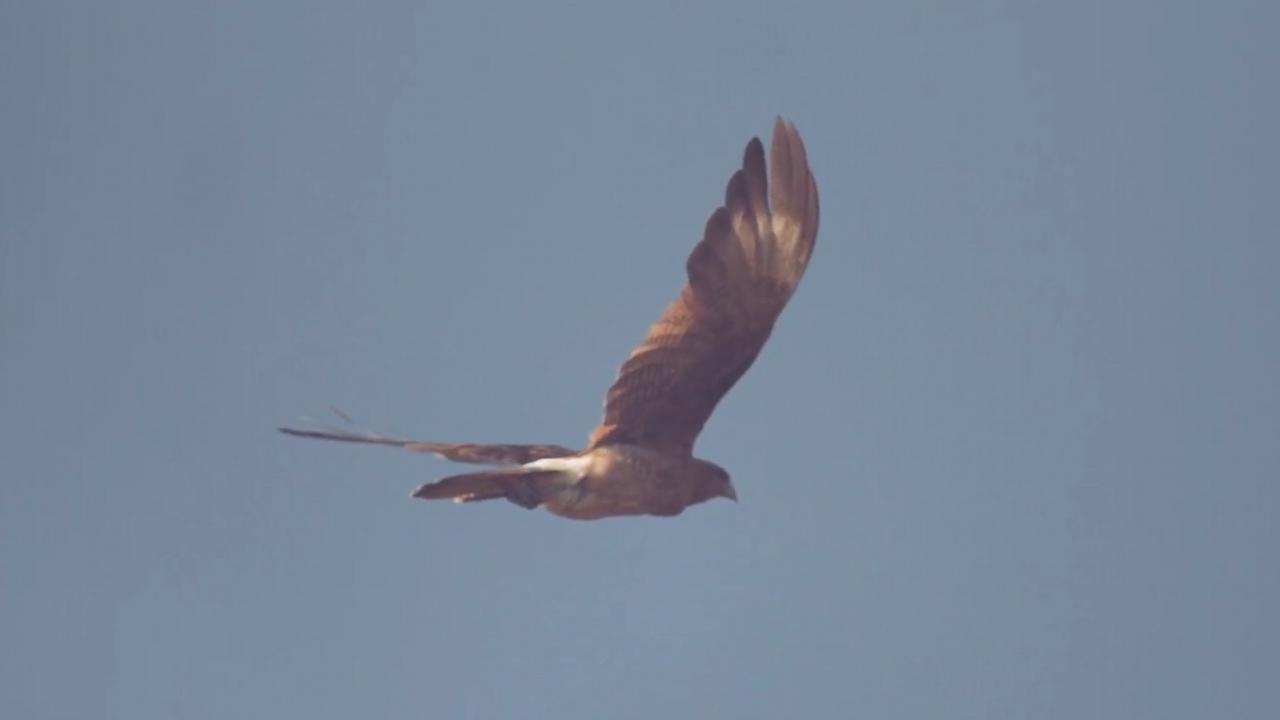Bird: (264, 106, 831, 527)
